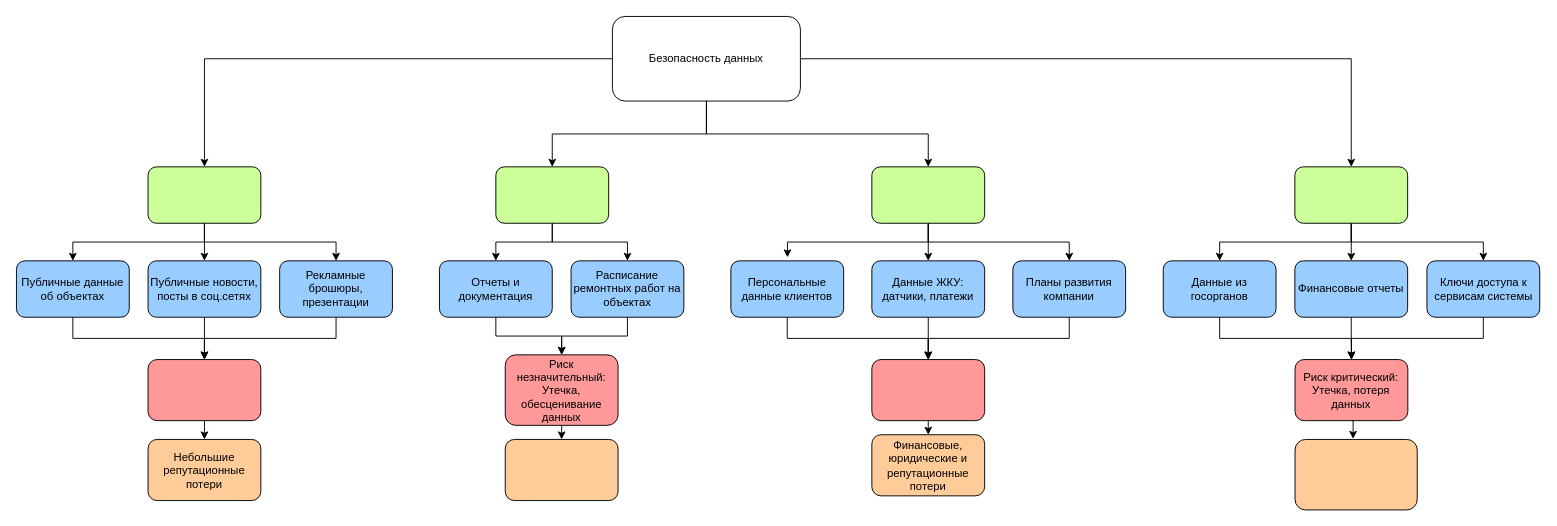
Some shapes in this 1557 by 526 pixel diagram are drawn without their labels. The centre of each missing label's shape, as x and y in pixels:
"внутренние" belongs at (552,194).
"конфиденциальные" belongs at (928,194).
"публичные" belongs at (204,194).
"Репутационные потери" belongs at (561,470).
"Риск значительный: Утечка, потеря данных" belongs at (928,390).
"Риск незначительный: Искажение публичных данных" belongs at (204,390).
"секретные" belongs at (1351,194).
"Серъезные финансовые, юридические и репутационные потери" belongs at (1355,474).
